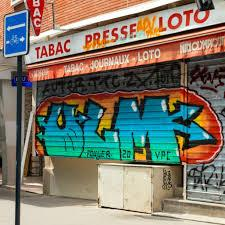graffiti: (37, 94, 219, 163), (43, 65, 225, 89), (188, 170, 221, 192), (160, 170, 173, 191)
